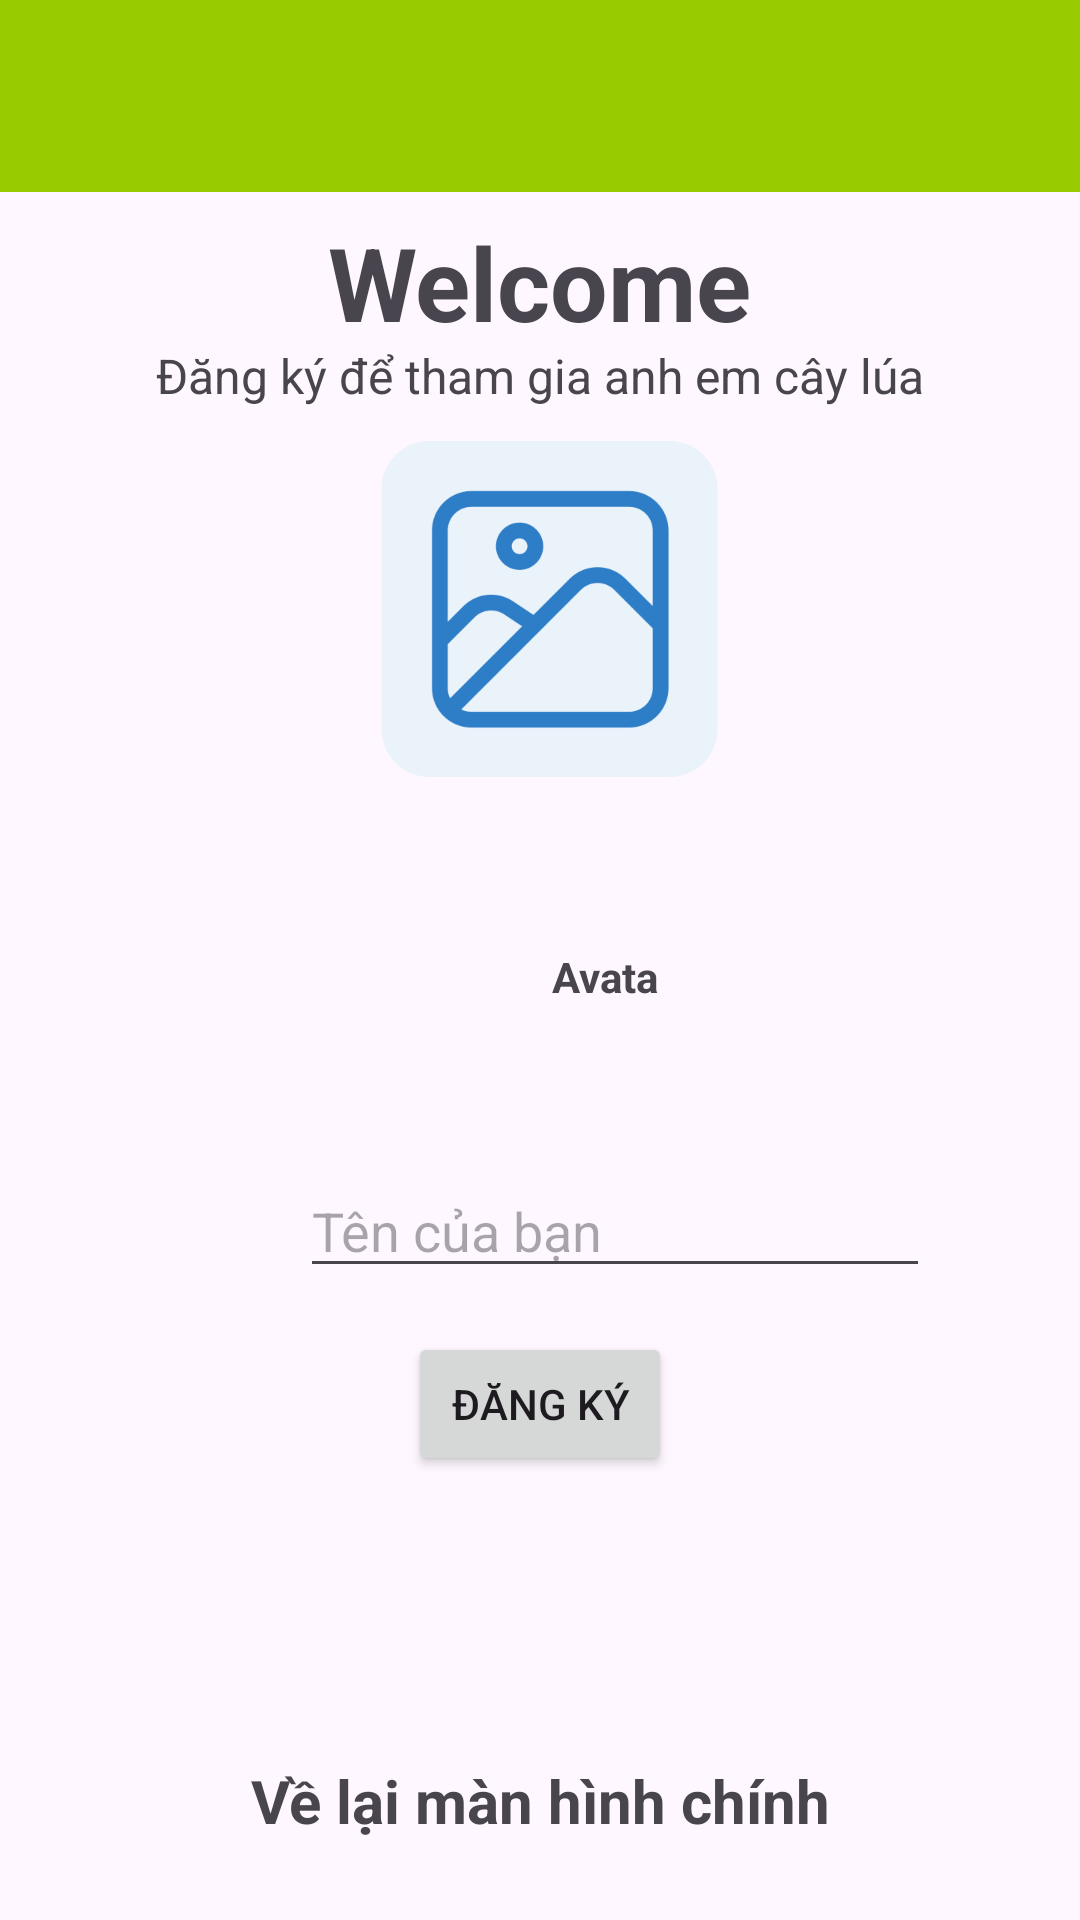

Named icons in this screenshot (1080 x 1920) and their bounding boxes, (x1, y1, x2, y2):
thuvien: (381, 441, 718, 777)
